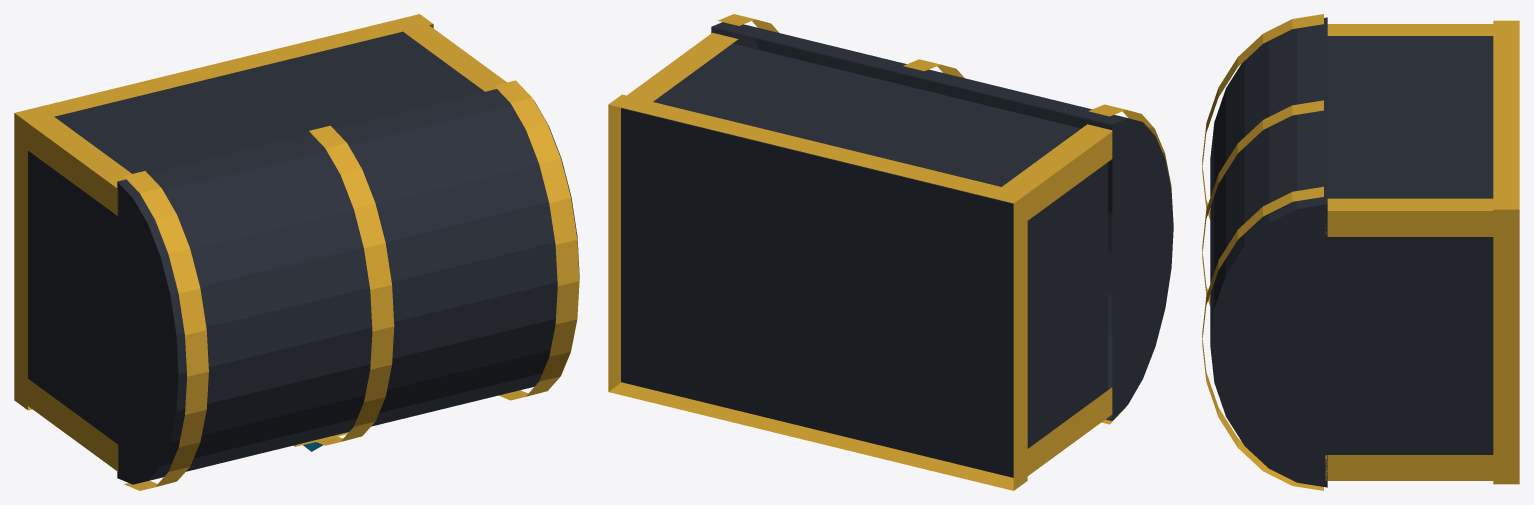
Rendered from loot_chest.obj.
3 renders of one model, left to right at view 1: azimuth 30°, elevation 25°; view 2: azimuth 150°, elevation 25°; view 3: azimuth 270°, elevation 25°, orthographic. The views are drawn at different scales.
Parts seen in each view (by area): view 1: ChestLid, ChestBody, GoldTrim; view 2: ChestBody, GoldTrim, ChestLid; view 3: ChestBody, ChestLid, GoldTrim.
Part boxes in pixels (x1,y1,x2,y2): ChestLid: (117,89,579,484); ChestBody: (28,31,484,443); GoldTrim: (14,14,579,490); ChestBody: (621,43,1107,477); GoldTrim: (608,14,1173,490); ChestLid: (711,22,1173,420); ChestBody: (1327,36,1493,454); ChestLid: (1210,17,1327,487); GoldTrim: (1202,14,1519,490).
Size of the model in its own units: 1.86 by 1.44 by 1.32.
